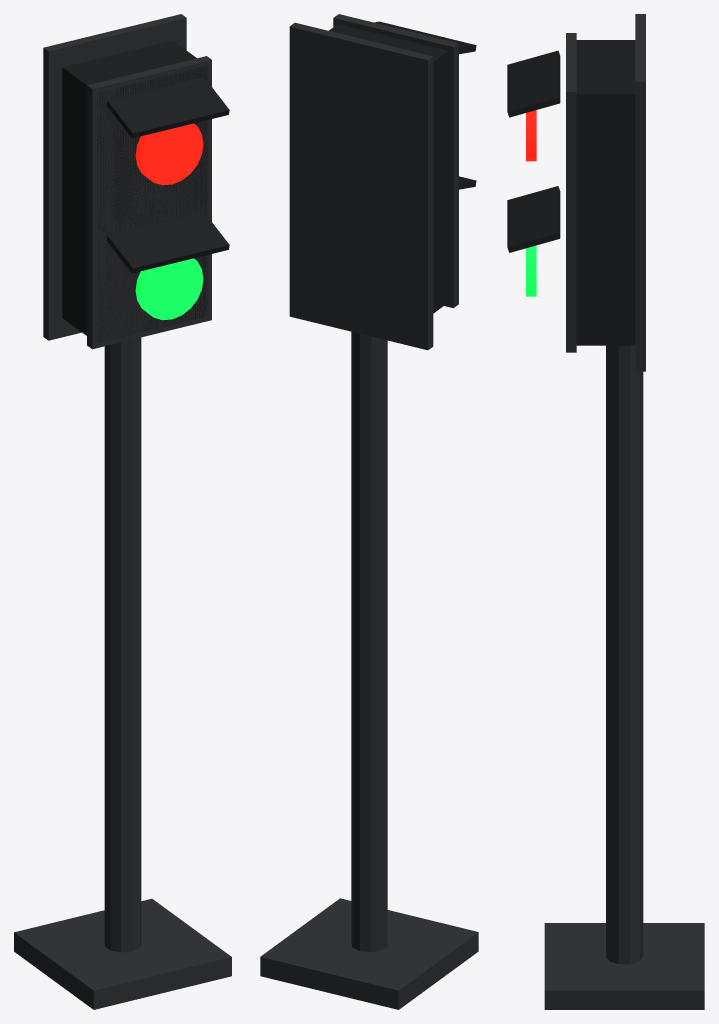
The model's file is signal.glb.
The picture shows the model from 3 angles, left to right: view 1: azimuth 30°, elevation 25°; view 2: azimuth 150°, elevation 25°; view 3: azimuth 270°, elevation 25°; orthographic projection.
Visible parts, largest first — view 1: signal_housing, lamp_green, lamp_red; view 2: signal_housing; view 3: signal_housing, lamp_red, lamp_green.
Part boxes in pixels (left/top/right/bottom): signal_housing: left=14, top=14, right=231, bottom=1009; lamp_green: left=135, top=258, right=203, bottom=320; lamp_red: left=135, top=123, right=203, bottom=185; signal_housing: left=260, top=14, right=478, bottom=1009; signal_housing: left=507, top=14, right=704, bottom=1009; lamp_red: left=526, top=110, right=536, bottom=161; lamp_green: left=526, top=245, right=536, bottom=296.
Size of the model in its own units: 0.3 by 1.92 by 0.3695.
